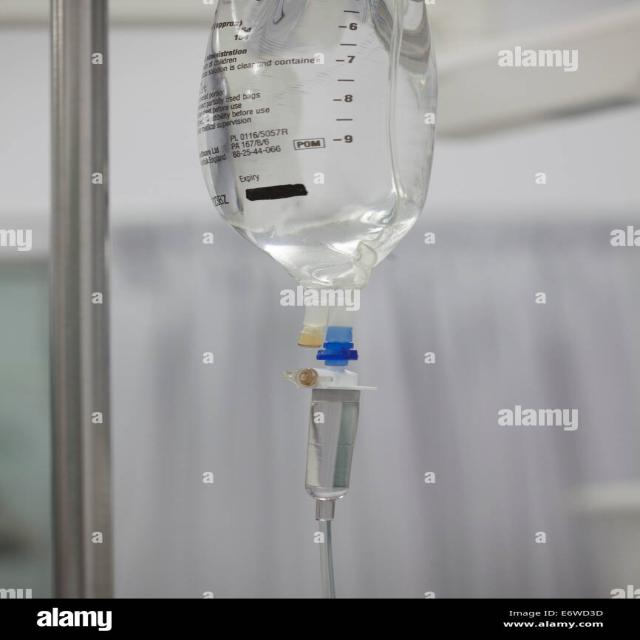B3: (188, 0, 443, 335)
